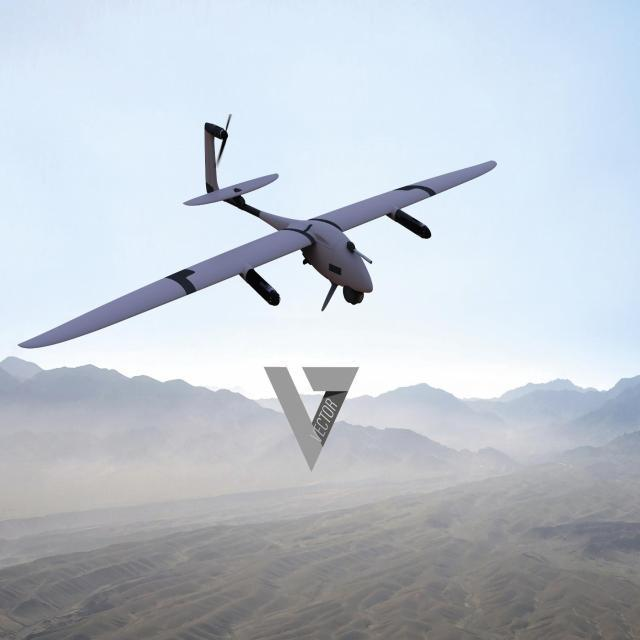UAV: (18, 144, 470, 350)
